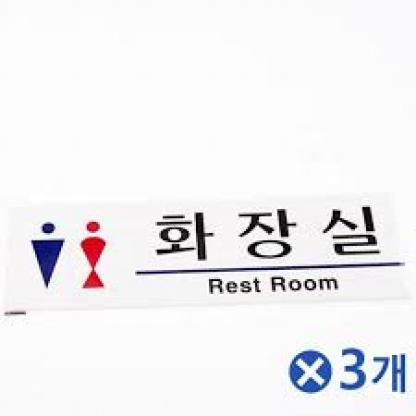toilet: (28, 217, 109, 296)
